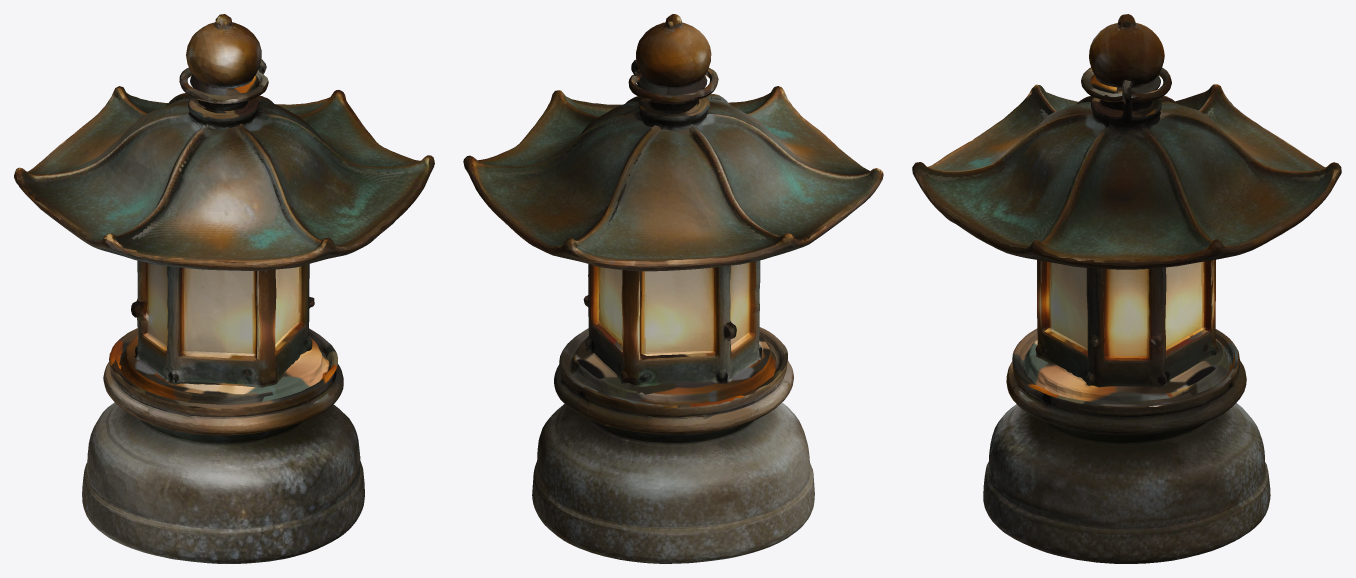
File: volcano_cave_bronze_lantern.glb
3 renders of one model, left to right at view 1: azimuth 30°, elevation 25°; view 2: azimuth 150°, elevation 25°; view 3: azimuth 270°, elevation 25°, orthographic.
Parts seen in each view (by area): view 1: temp_mesh.ply; view 2: temp_mesh.ply; view 3: temp_mesh.ply.
Boxes of the visible parts, x1,y1,x2,y2 form: temp_mesh.ply: (14,14,434,563); temp_mesh.ply: (463,14,883,563); temp_mesh.ply: (912,14,1341,563).
Bounding box in the file's own units: 1.35 × 1.92 × 1.52.
Materials: 1 (1 with a texture image).
